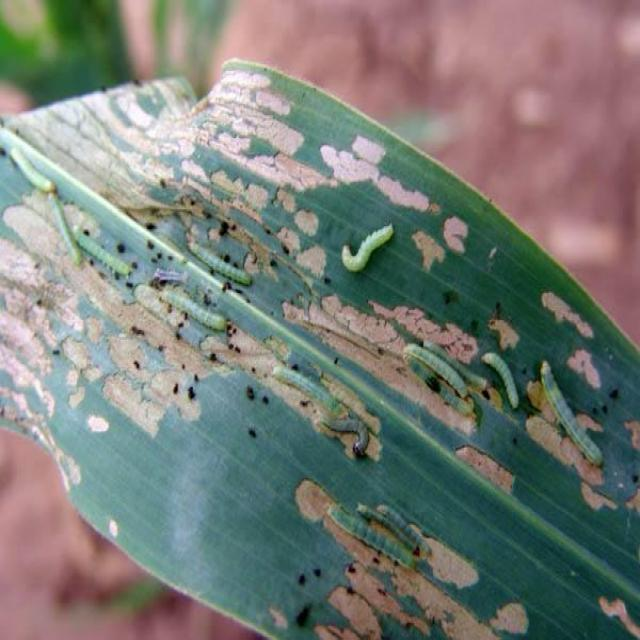BeetArmyWorm-Larva-: (537, 356, 607, 471), (320, 497, 411, 574), (394, 334, 475, 404), (153, 283, 237, 338), (264, 358, 340, 414), (183, 234, 253, 288), (75, 225, 134, 281), (47, 189, 84, 276), (339, 221, 398, 275), (320, 408, 379, 459), (481, 346, 524, 412)
